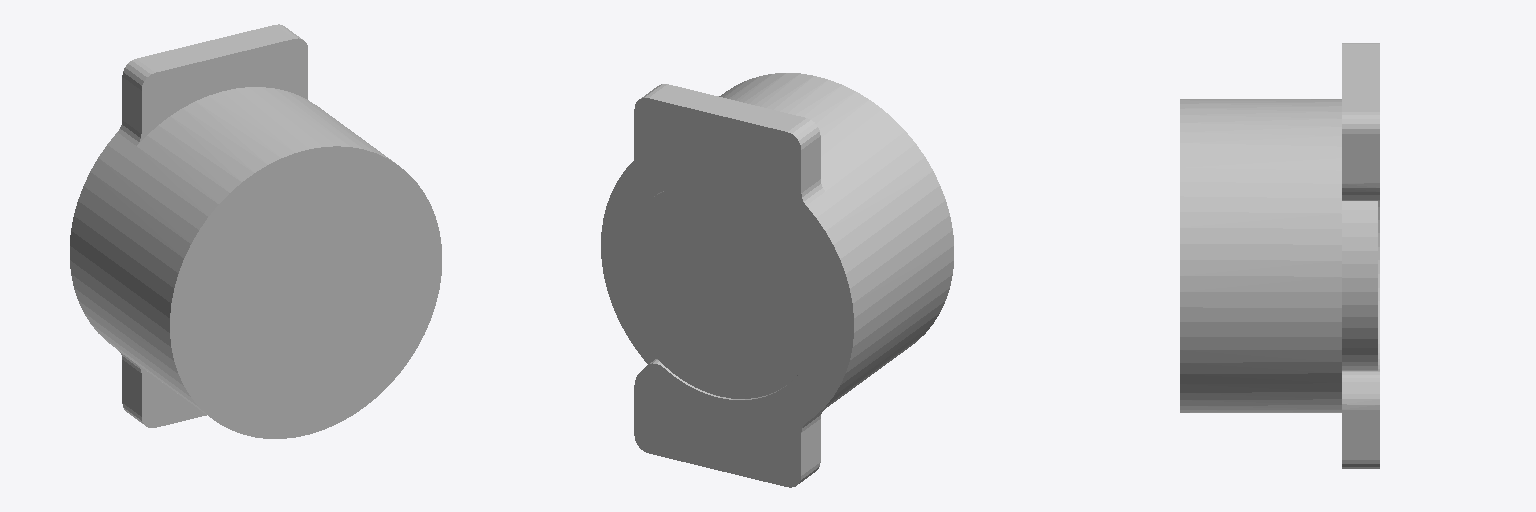
The model's file is openarm_left_link0_collision_mesh.obj.
3 renders of one model, left to right at view 1: azimuth 30°, elevation 25°; view 2: azimuth 150°, elevation 25°; view 3: azimuth 270°, elevation 25°, orthographic.
Bounding box in the file's own units: 0.0979 × 0.122 × 0.0625.